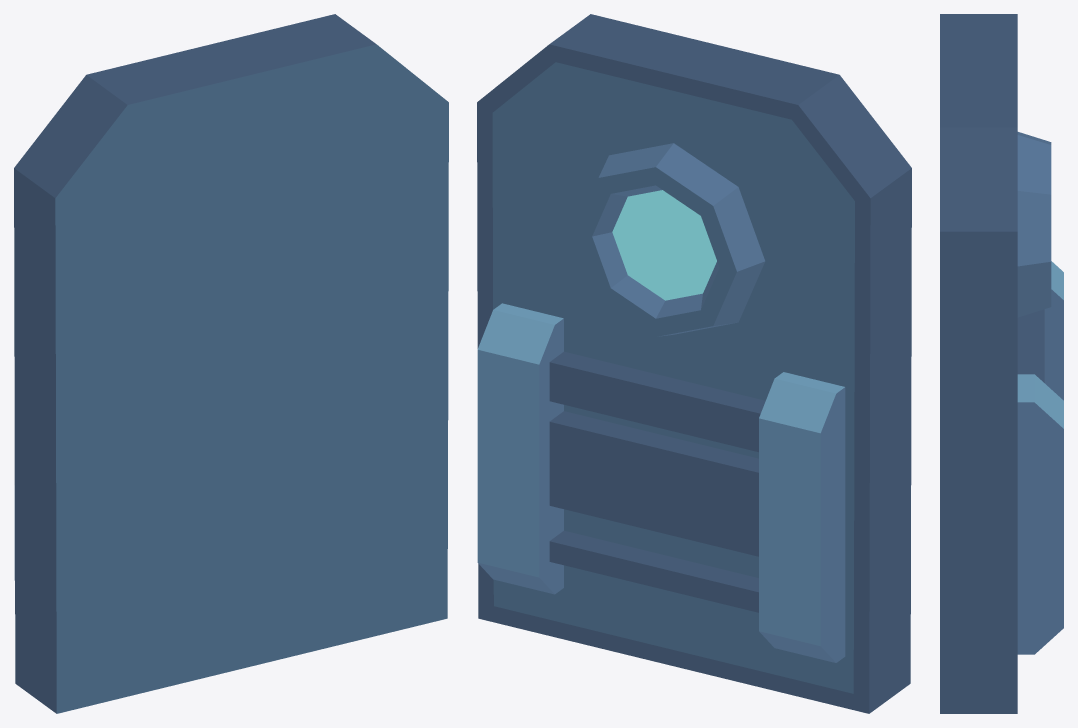
The model's file is door.glb.
3 renders of one model, left to right at view 1: azimuth 30°, elevation 25°; view 2: azimuth 150°, elevation 25°; view 3: azimuth 270°, elevation 25°, orthographic. The views are drawn at different scales.
Visible parts, largest first — view 1: door; view 2: door; view 3: door.
Boxes of the visible parts, x1,y1,x2,y2 form: door: (14, 14, 448, 713); door: (477, 14, 911, 713); door: (940, 14, 1063, 713).
Size of the model in its own units: 1.92 by 2.76 by 0.5594.
1 material, 1 textured.
